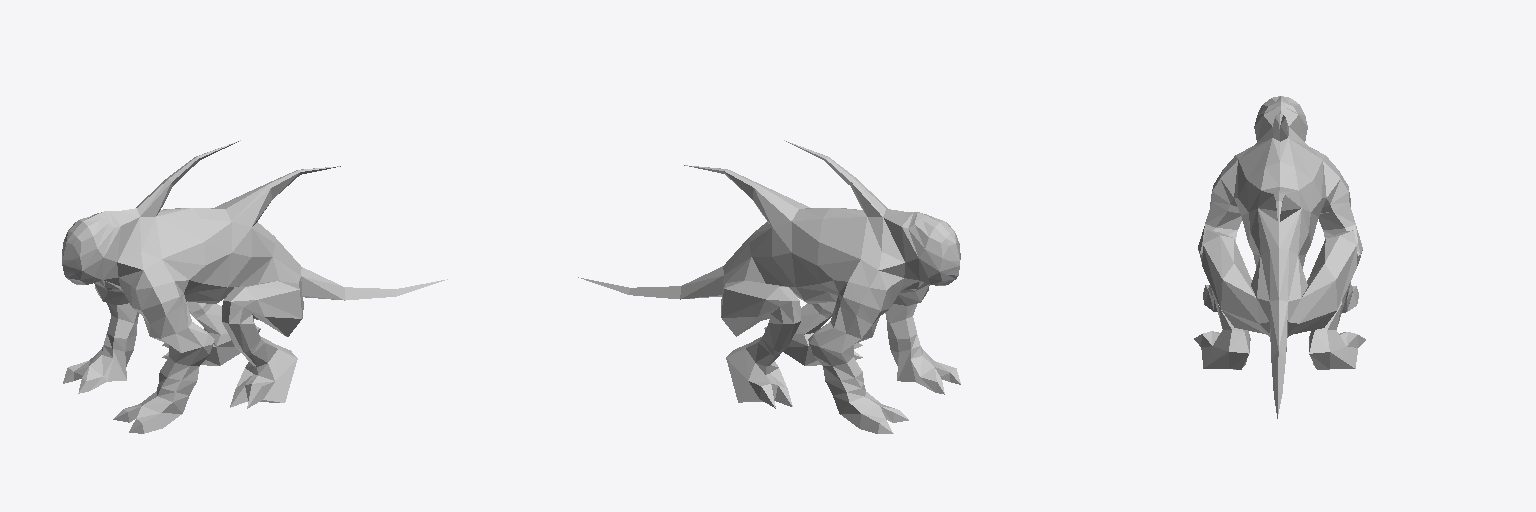
The model's file is Oldmonster.obj.
3 renders of one model, left to right at view 1: azimuth 30°, elevation 25°; view 2: azimuth 150°, elevation 25°; view 3: azimuth 270°, elevation 25°, orthographic.
Visible parts, largest first — view 1: monster; view 2: monster; view 3: monster.
Part boxes in pixels (left/top/right/bottom): monster: left=62, top=140, right=447, bottom=433; monster: left=578, top=140, right=960, bottom=433; monster: left=1194, top=96, right=1365, bottom=418.
Size of the model in its own units: 3.89 by 2.3 by 1.51.